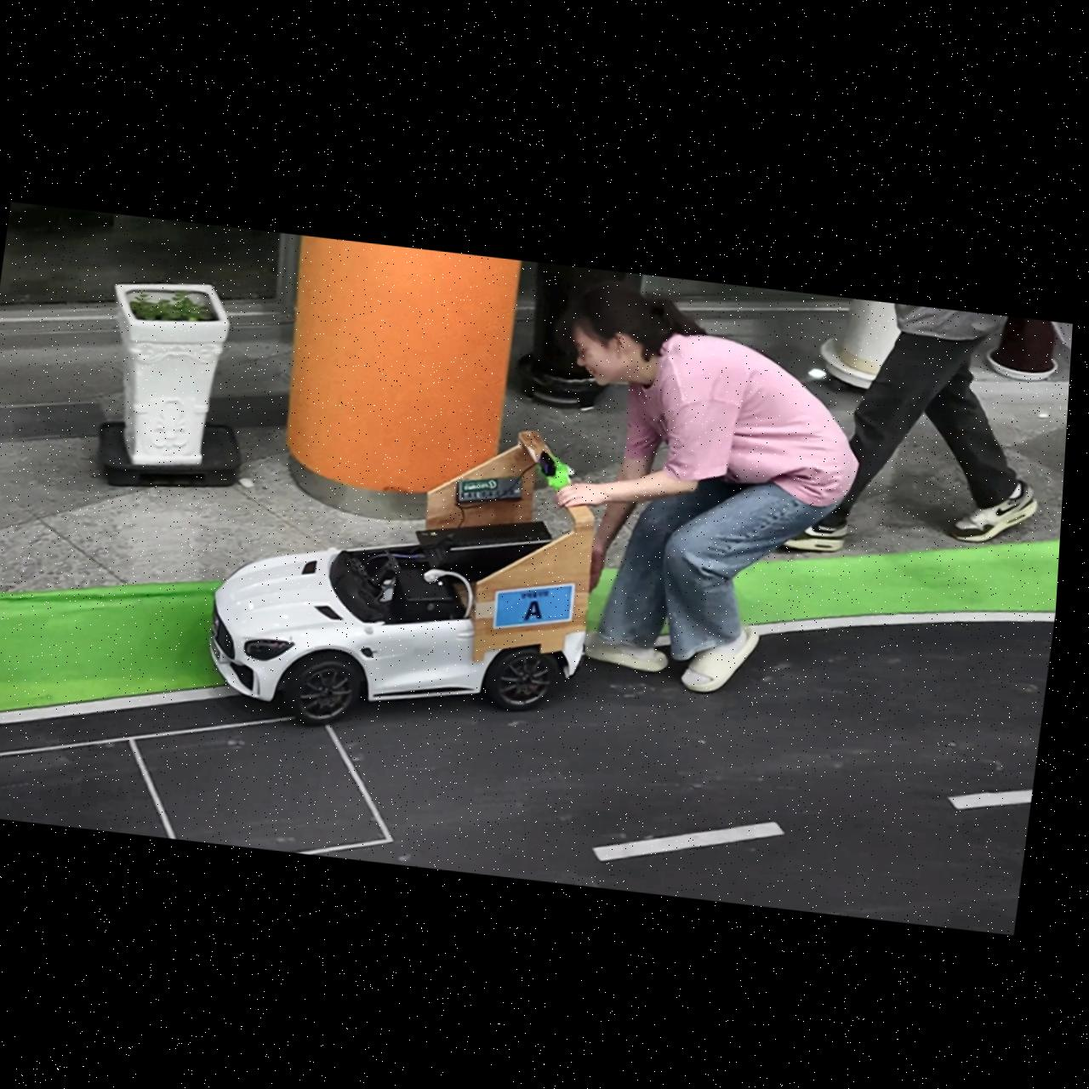broken_line: (593, 822, 784, 861), (948, 790, 1032, 810)
